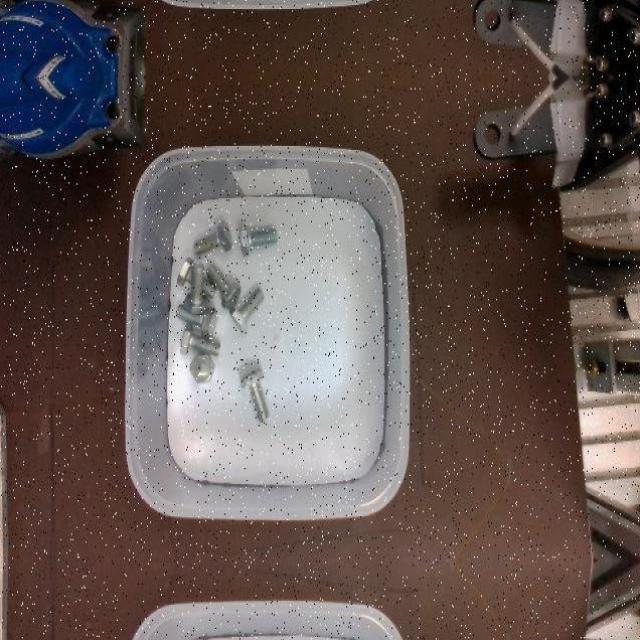screw: (230, 286, 266, 332), (206, 262, 242, 308), (240, 368, 270, 421), (181, 322, 222, 356), (195, 219, 232, 254), (184, 262, 209, 312), (240, 224, 278, 256), (192, 352, 216, 382)
